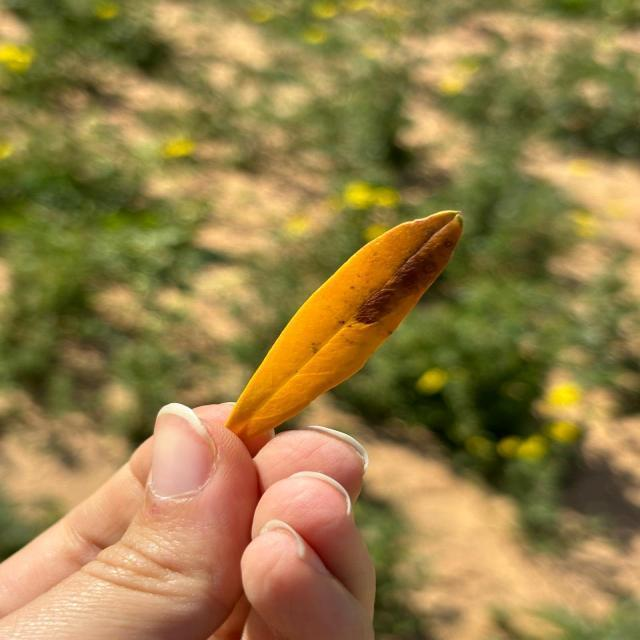OlivePeacockSpot: (225, 211, 462, 449)
